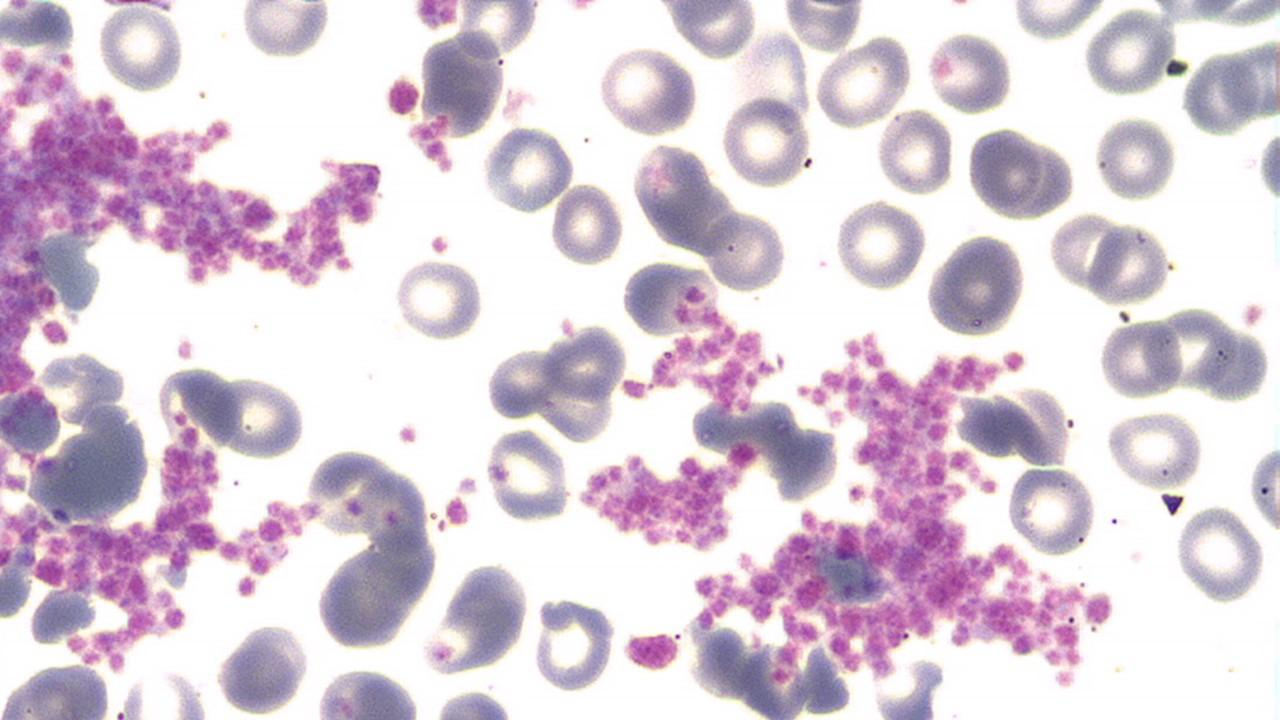Platelets: (622, 630, 682, 674), (384, 74, 421, 120)
RBC: (312, 539, 435, 650), (928, 231, 1027, 338), (414, 26, 506, 138), (1174, 501, 1266, 605), (596, 45, 698, 135), (814, 37, 911, 130), (832, 198, 928, 291), (720, 92, 812, 189), (530, 592, 617, 694), (216, 622, 309, 716), (481, 124, 575, 216), (1005, 463, 1099, 555), (484, 426, 571, 523), (1082, 7, 1176, 96), (1104, 408, 1204, 490), (96, 2, 186, 93), (390, 258, 485, 342), (216, 372, 307, 458), (735, 26, 814, 125), (620, 260, 720, 336), (704, 207, 788, 294), (1094, 113, 1176, 202), (1155, 303, 1235, 393), (1086, 220, 1168, 307), (927, 30, 1011, 114), (1098, 318, 1182, 401), (876, 108, 954, 197), (1182, 47, 1258, 136), (967, 125, 1041, 216), (995, 134, 1073, 220), (549, 179, 624, 268), (534, 361, 616, 442), (0, 659, 116, 716), (313, 664, 422, 720), (1048, 211, 1124, 290), (238, 0, 332, 61), (1203, 325, 1273, 404), (484, 346, 558, 420), (676, 1, 754, 59), (780, 0, 866, 51), (1010, 0, 1106, 40), (1247, 439, 1279, 544), (431, 688, 518, 719), (1255, 129, 1280, 204)
